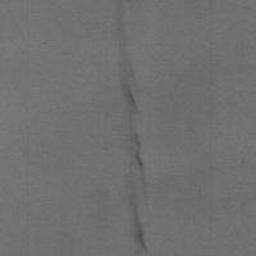Inclusion: (113, 0, 152, 256)
